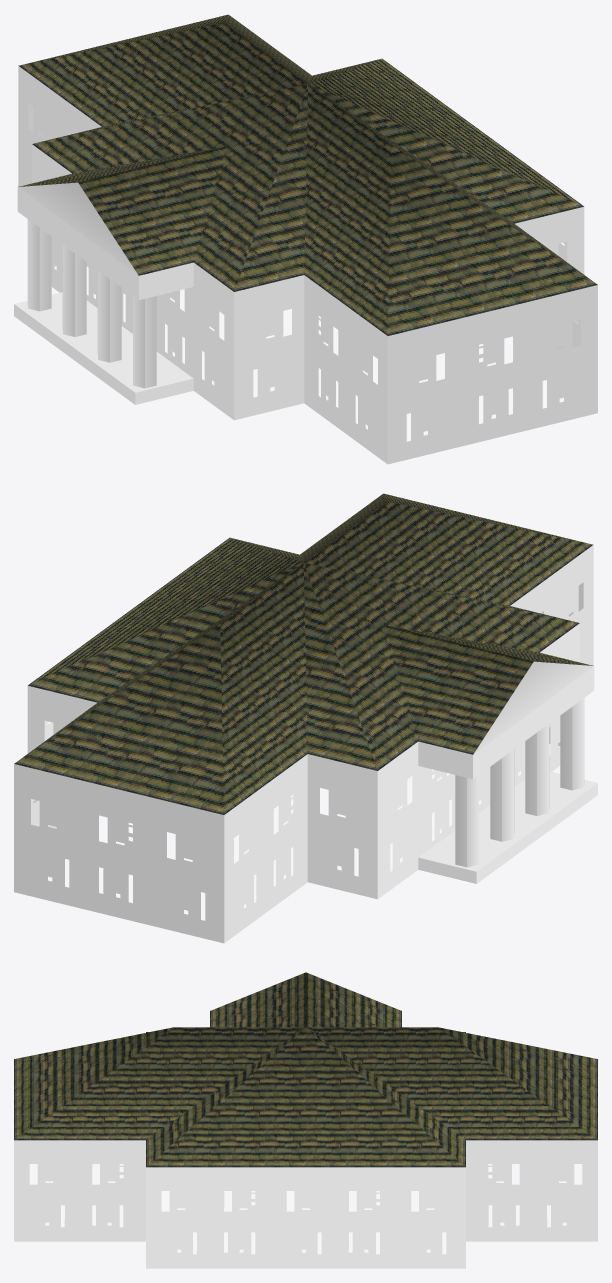
File: uvmd-0097.glb
3 renders of one model, top to bottom at view 1: azimuth 30°, elevation 25°; view 2: azimuth 150°, elevation 25°; view 3: azimuth 270°, elevation 25°, orthographic. The views are drawn at different scales.
Visible parts, largest first — view 1: uvmd-0097; view 2: uvmd-0097; view 3: uvmd-0097.
Part boxes in pixels (x1,y1,x2,y2): uvmd-0097: (14,14,597,464); uvmd-0097: (14,493,597,943); uvmd-0097: (14,972,597,1268).
Size of the model in its own units: 350 by 180 by 548.
3 materials, 3 textured.
